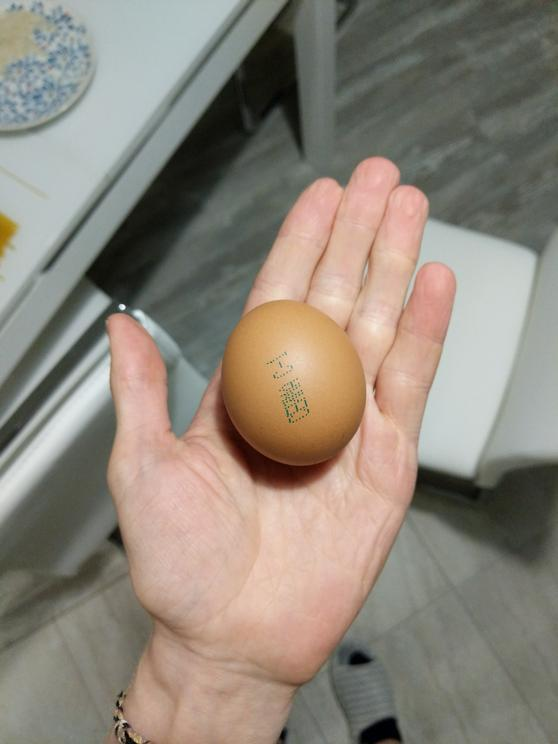egg: (211, 293, 369, 476)
